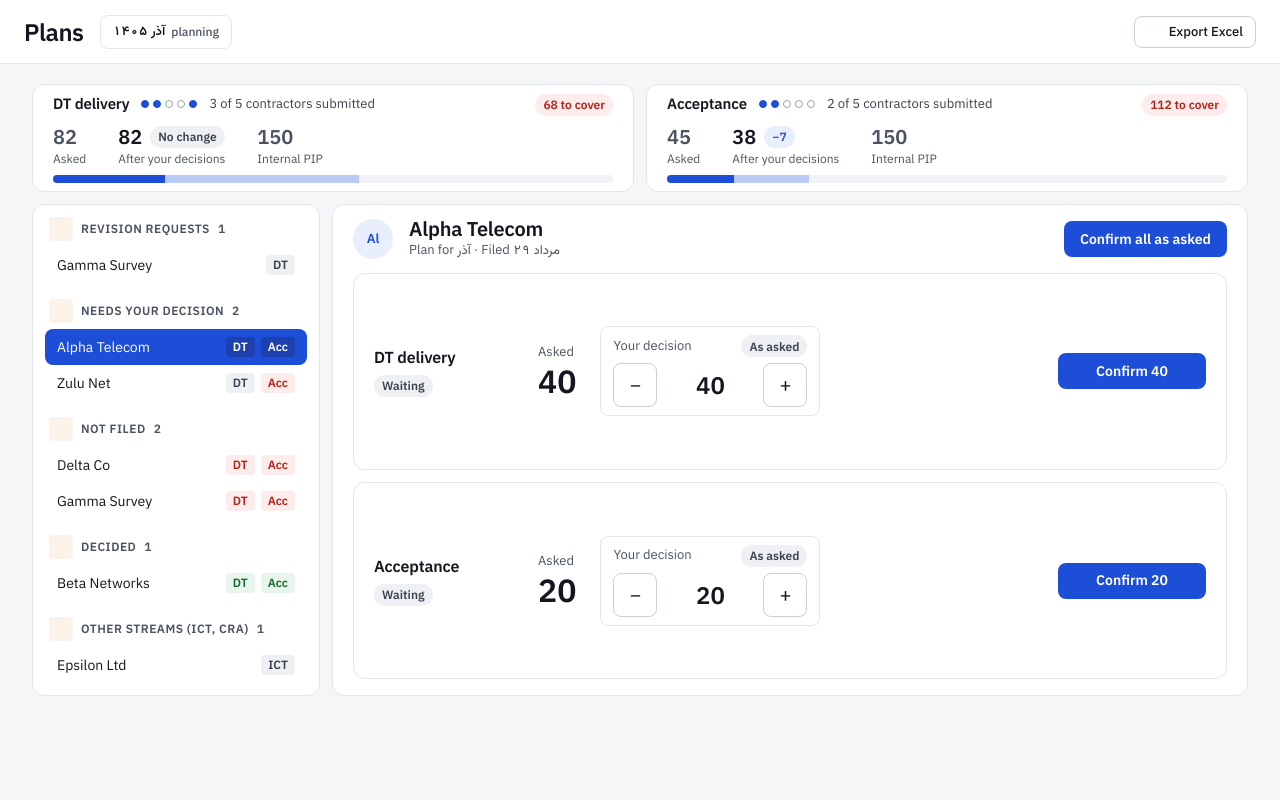
Plans › says Increase when the number goes up, and closes the comment when it returns to asked
The width and height of the screenshot is (1280, 800).
Click the button named "Increase" at (785, 386), box [763, 364, 807, 408]
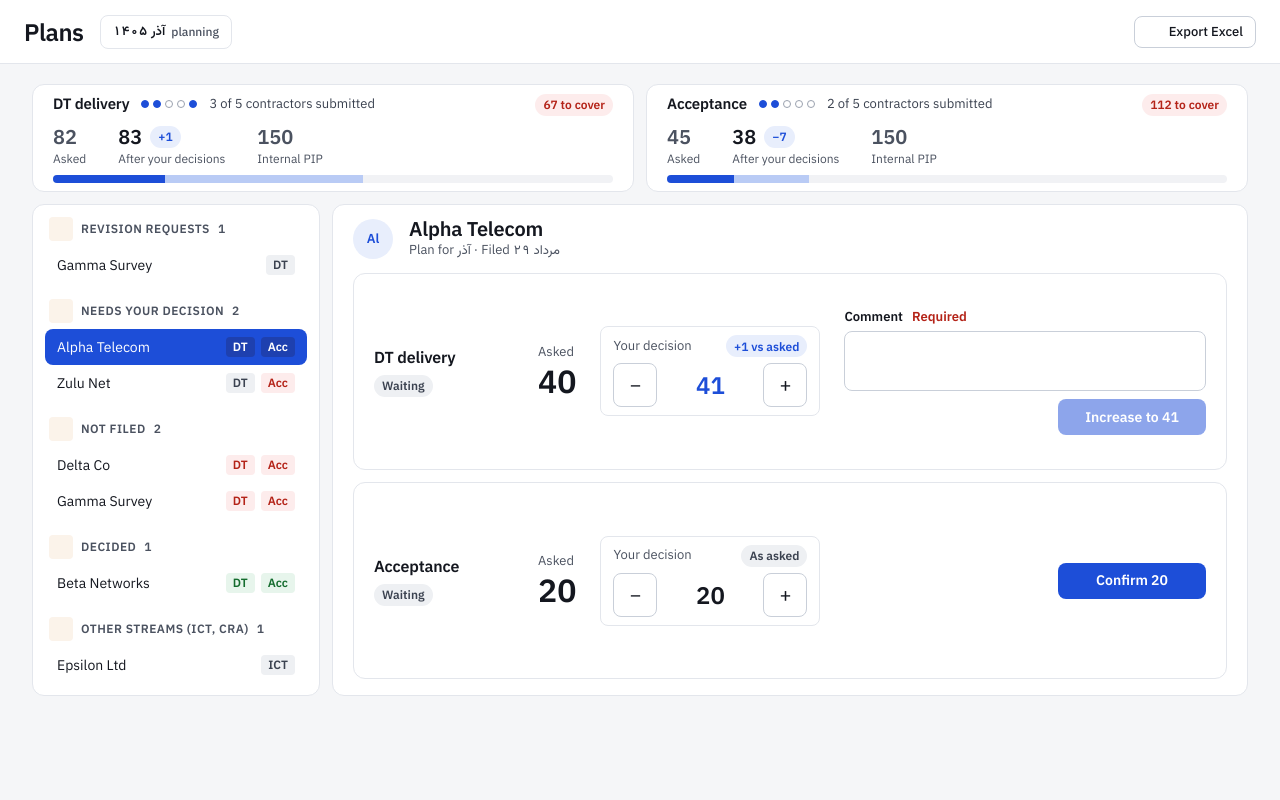
Now the button "Increase to 41" is shown, box [1058, 399, 1206, 435]
Now the text "+1 vs asked" is shown, box [726, 336, 807, 358]
Click the button named "Decrease" at (635, 386), box [613, 364, 657, 408]
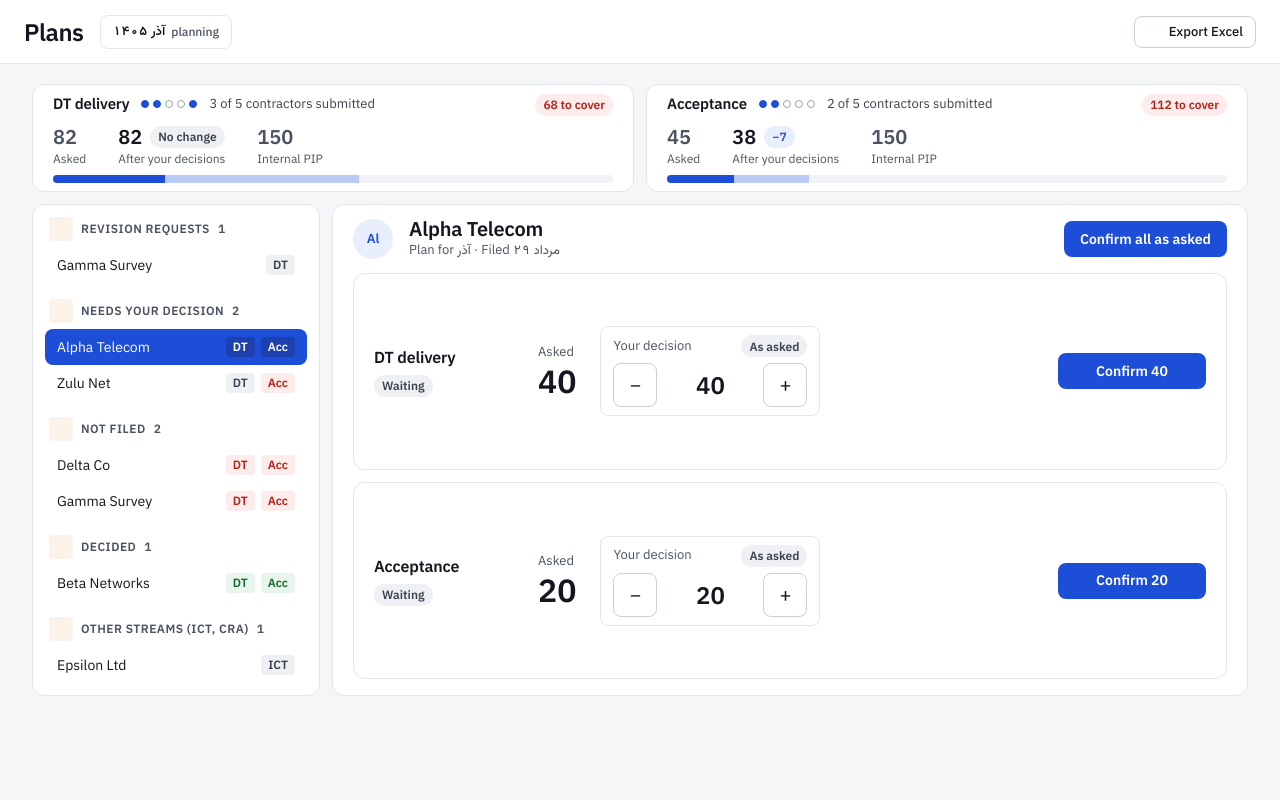
Now the label labelled "Comment" is gone
Now the button "Confirm 40" is shown, box [1058, 354, 1206, 390]
Now the 1st text "As asked" is shown, box [742, 336, 807, 358]
